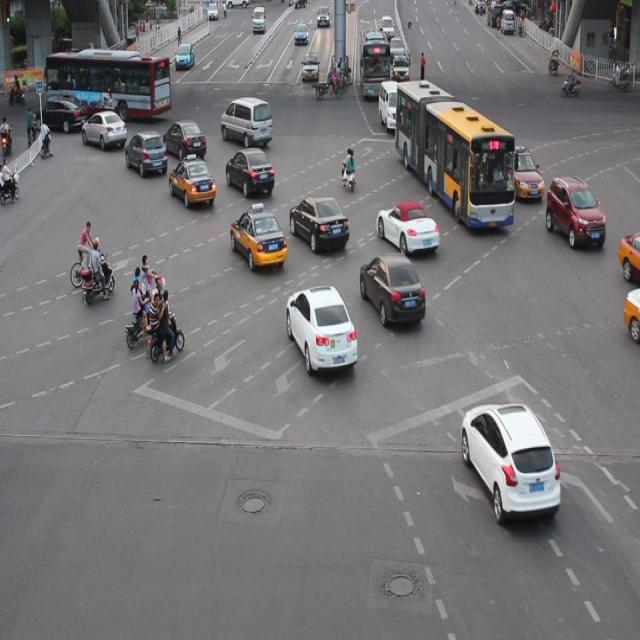car: (460, 400, 560, 519), (284, 283, 356, 371), (360, 252, 426, 325), (546, 174, 604, 247), (290, 193, 350, 253), (230, 206, 286, 268), (376, 200, 439, 255), (224, 145, 275, 196), (168, 154, 215, 207), (126, 130, 168, 176), (508, 145, 543, 200), (163, 119, 206, 160), (82, 108, 126, 148), (616, 230, 640, 284)
truck: (220, 96, 272, 145)
van: (394, 80, 513, 226), (45, 50, 171, 115)
